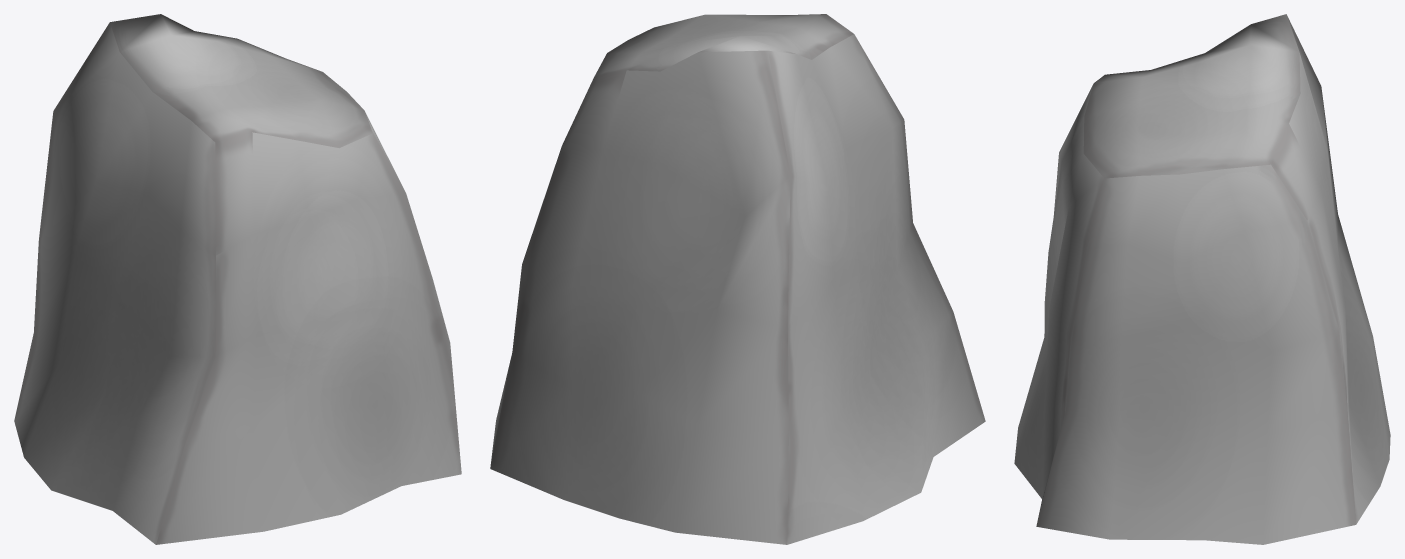
The model's file is rock.fbx.
The picture shows the model from 3 angles, left to right: view 1: azimuth 30°, elevation 25°; view 2: azimuth 150°, elevation 25°; view 3: azimuth 270°, elevation 25°; orthographic projection. The views are drawn at different scales.
Parts seen in each view (by area): view 1: pCube1; view 2: pCube1; view 3: pCube1.
Part boxes in pixels (x1,y1,x2,y2): pCube1: (14, 14, 461, 544); pCube1: (490, 14, 985, 544); pCube1: (1014, 14, 1390, 544).
Size of the model in its own units: 158 by 172 by 145.
1 material, 1 textured.
